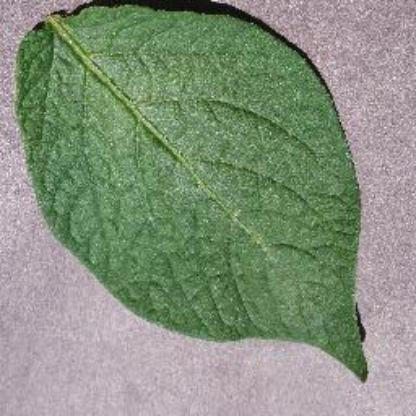Healthy-plant: (20, 4, 368, 382)
